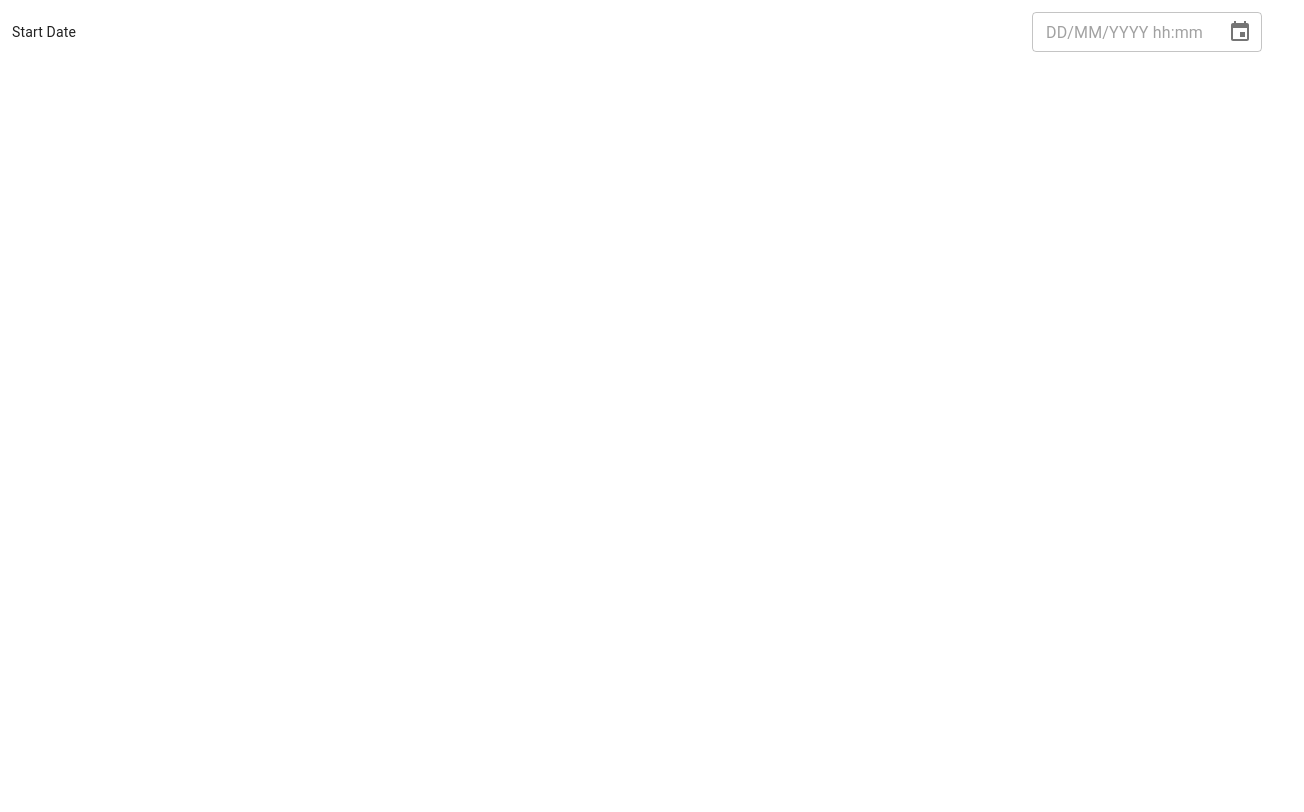
it: CardDateField › a date typed only in part › is reported as incomplete when pasted, once the field is left
Click the number field labelled "DD" at (1057, 32), box [1046,22,1067,42]
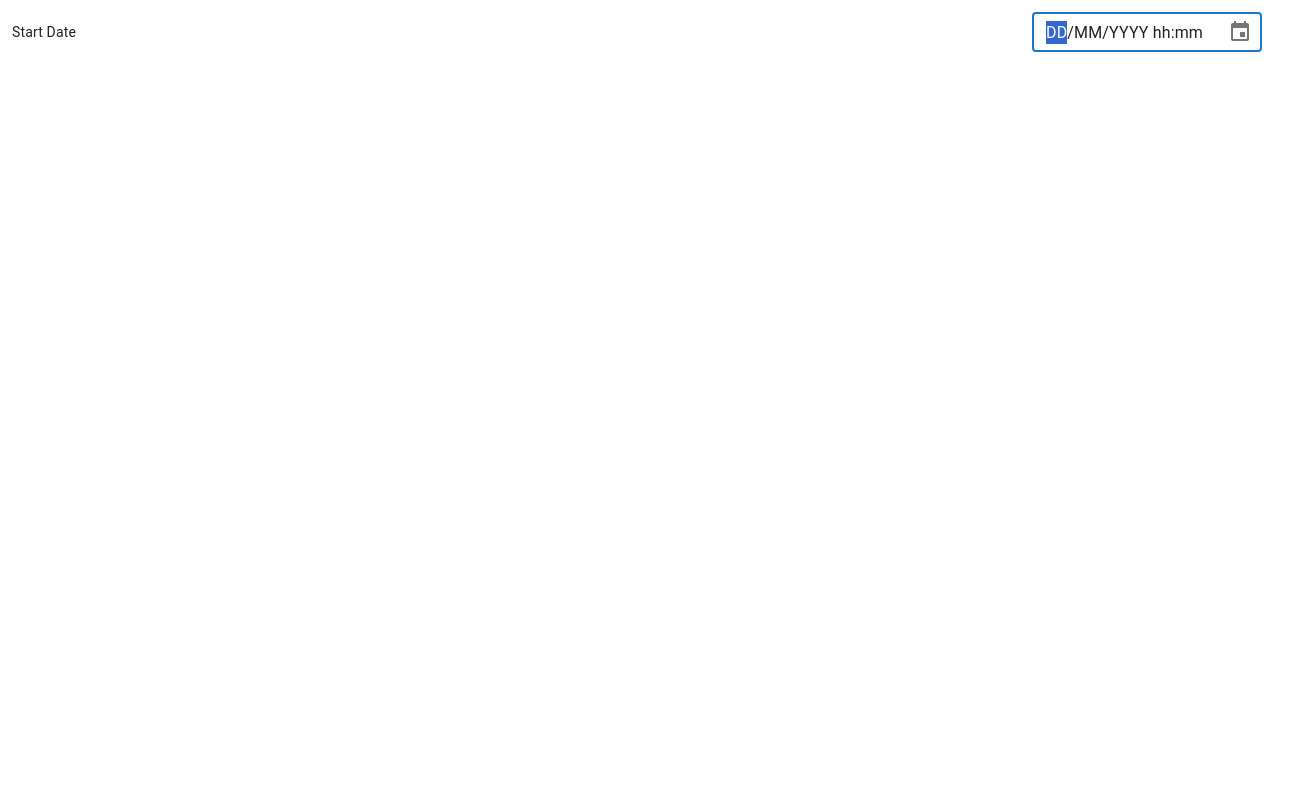
Type keys "05"
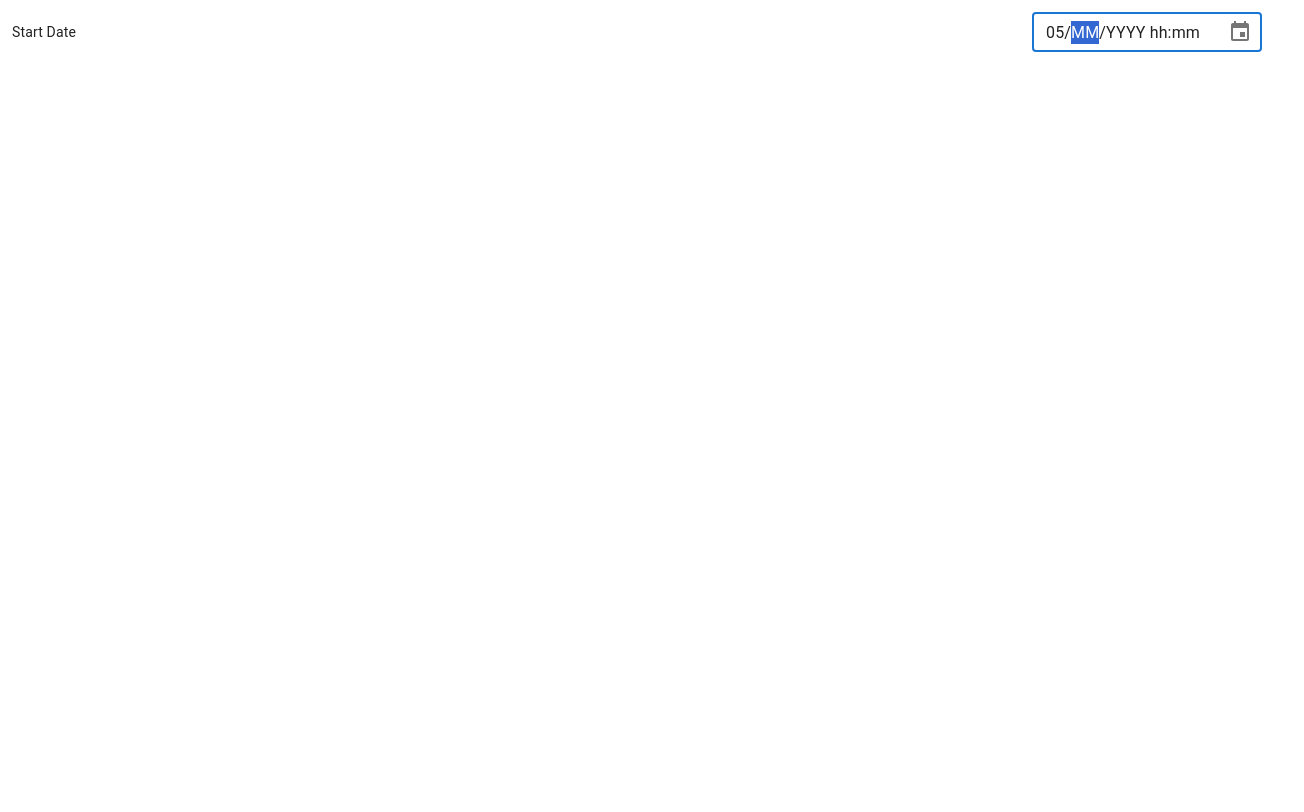
# Left with a click elsewhere: no key is pressed at all.
Click the element showing "Start Date 05 / MM / YYYY hh : mm" at (652, 412), box [12,12,1292,811]
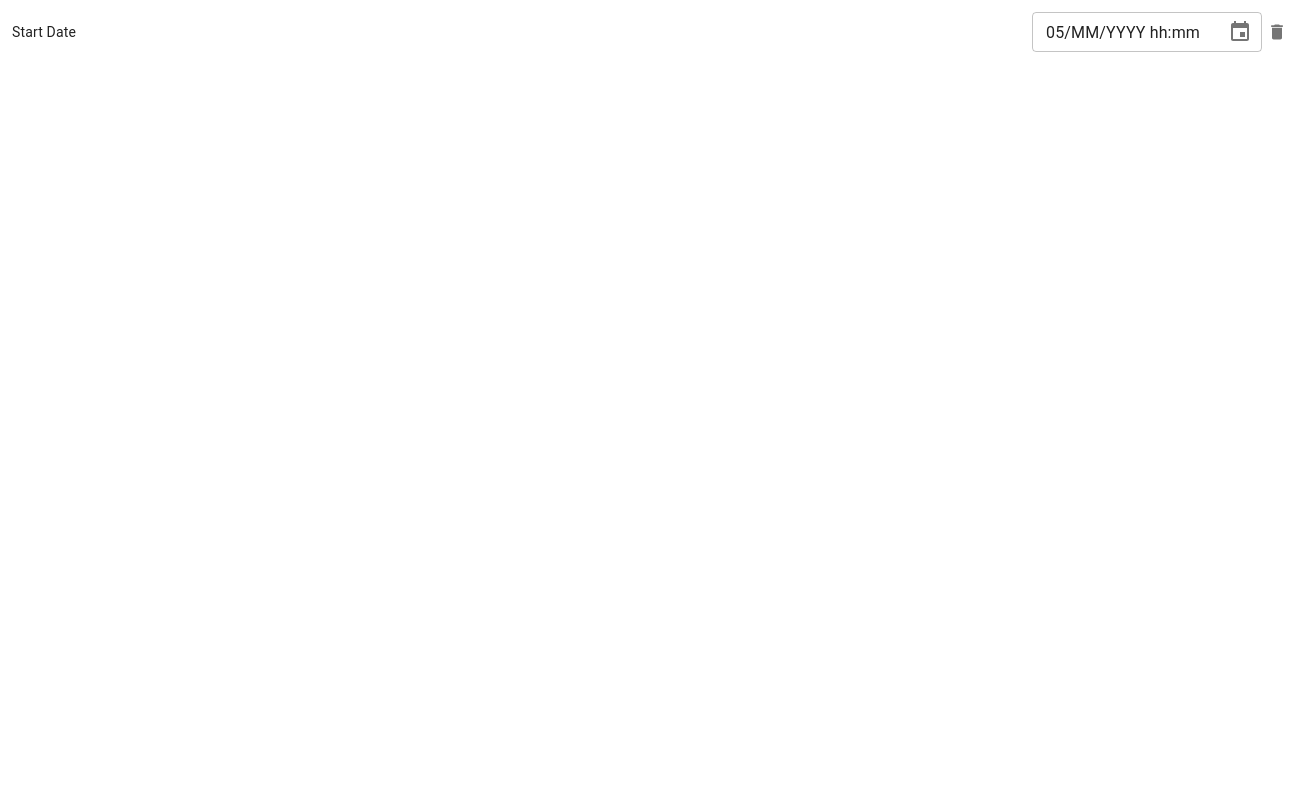
expect the button named "Remove the start date" is enabled: met, box [1262,17,1292,47]
